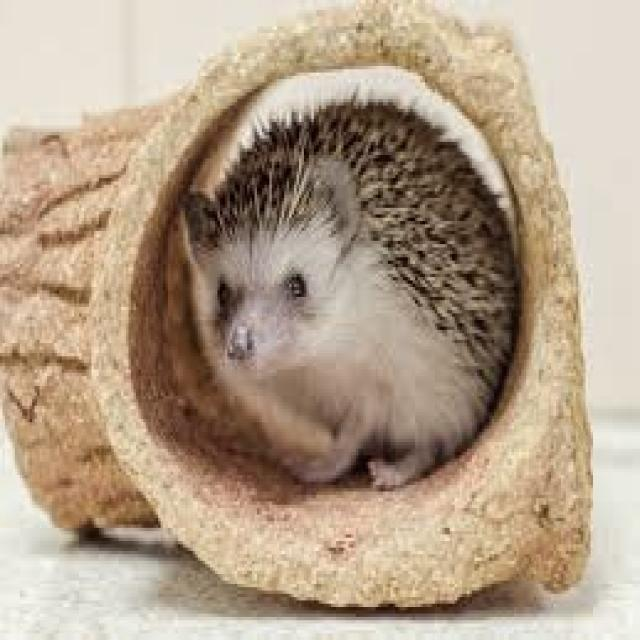hedgehog: (185, 99, 516, 485)
